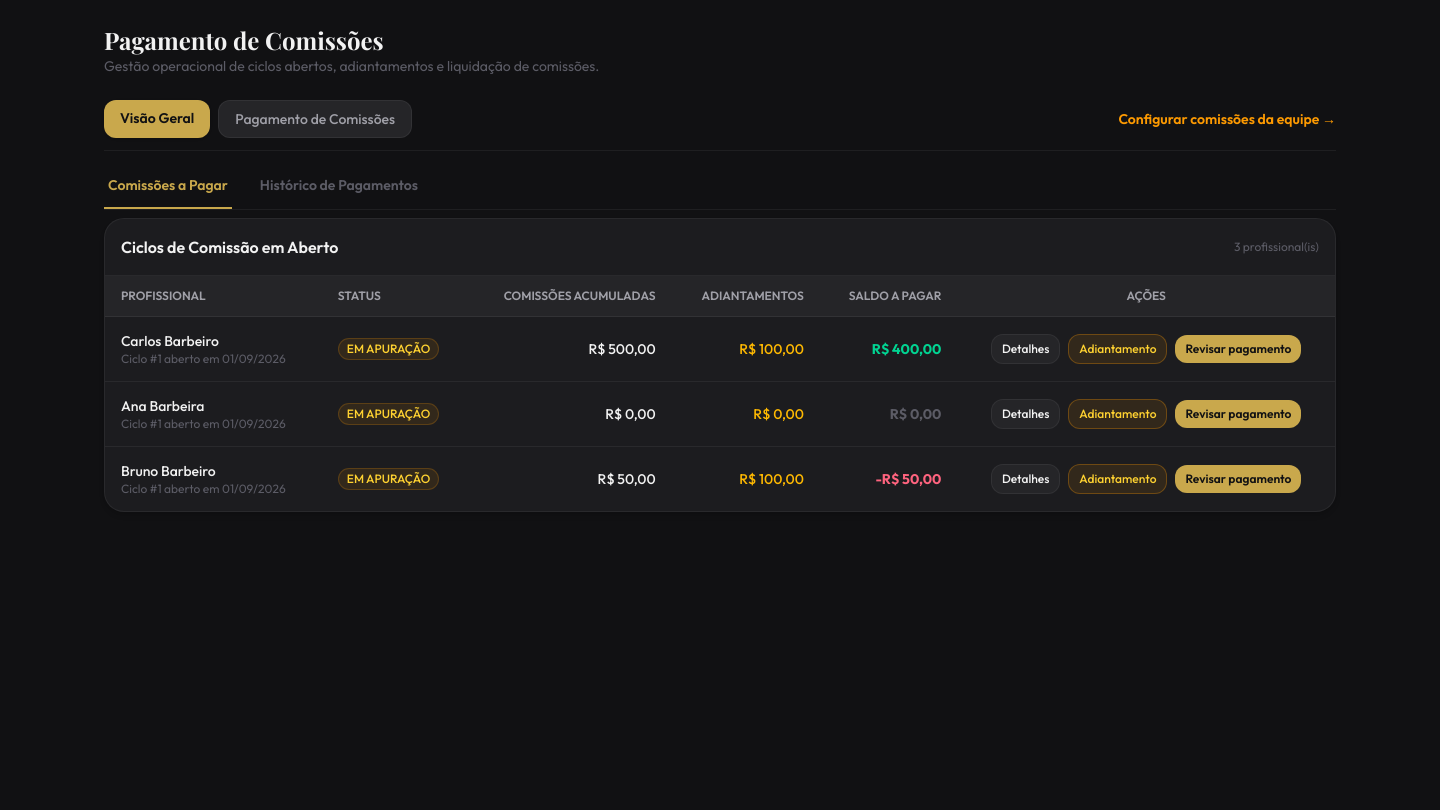
Scenario: TEM BARBER — C9 Admin Commission UX Suite › 12. advance > available blocked
Expected: the text "Carlos Barbeiro" is shown, [121,332,219,350]
Click the button "Adiantamento" in the row of "Carlos Barbeiro": (1118, 349) [1068,334,1167,364]
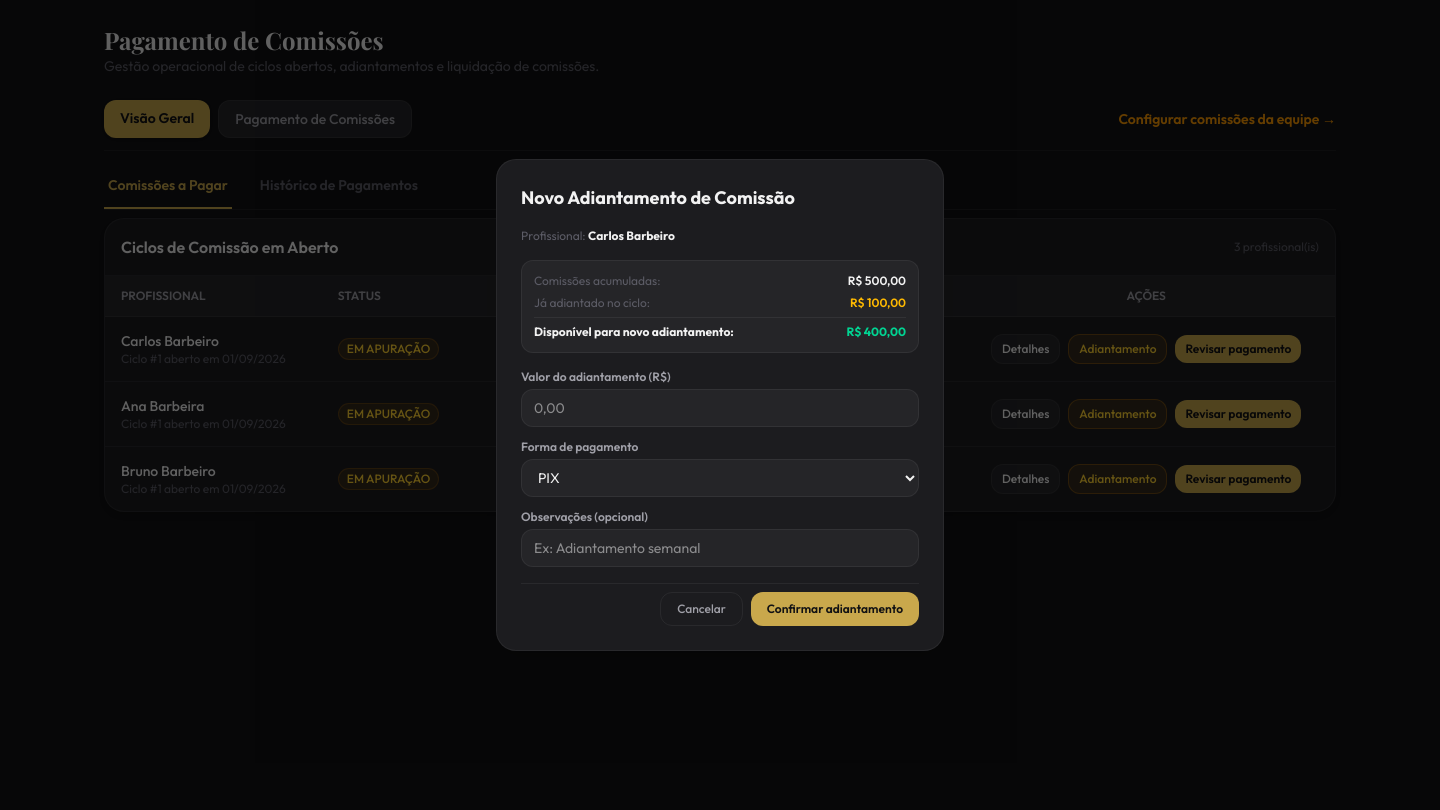
Now the heading "Novo Adiantamento de Comissão" is shown, box [521,186,795,209]
In the number field with placeholder "0,00": (720, 408) [521,389,919,427], type "500"
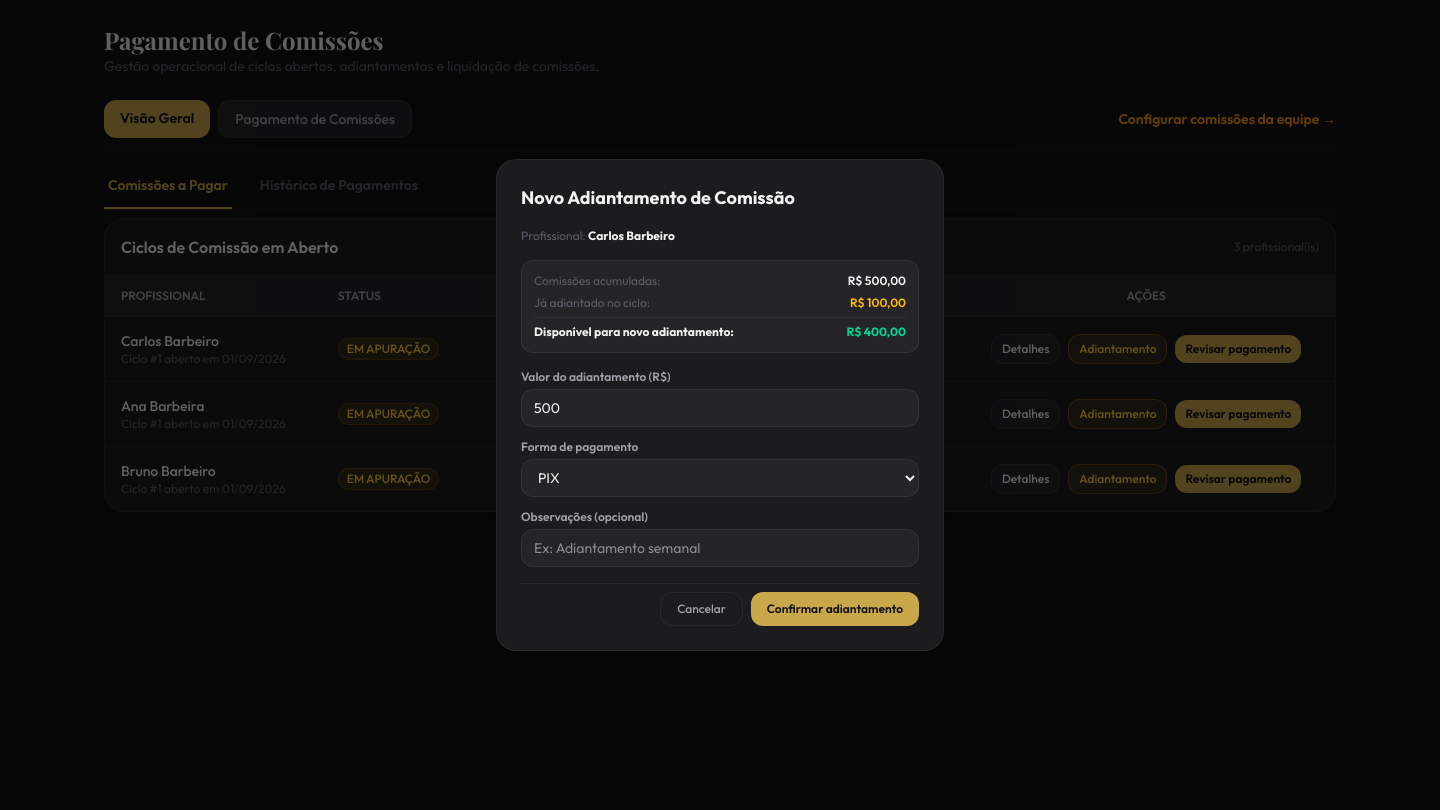
Click the button "Confirmar adiantamento": (835, 609) [751,592,919,626]
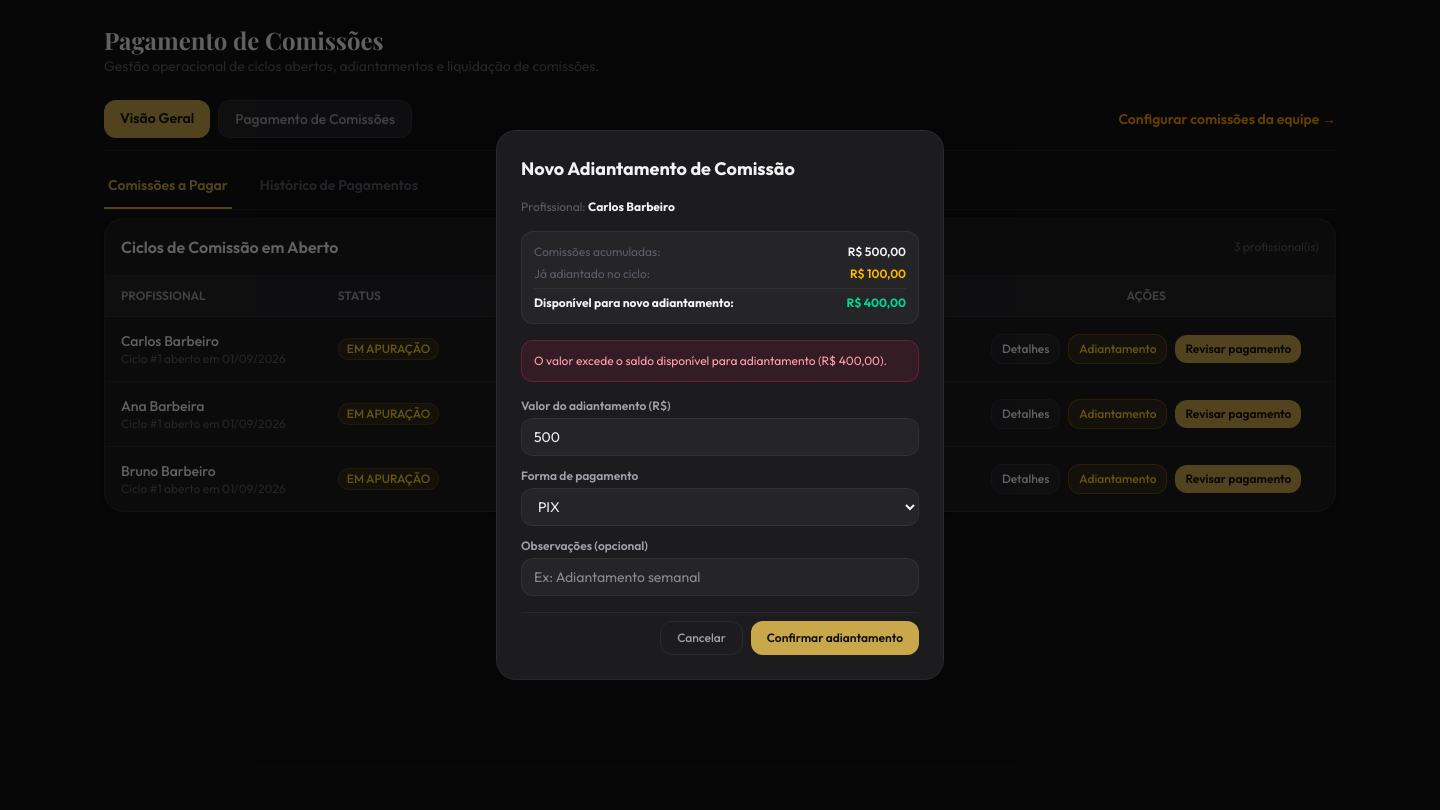
Now the text "O valor excede o saldo disponível" is shown, box [534,353,887,368]
